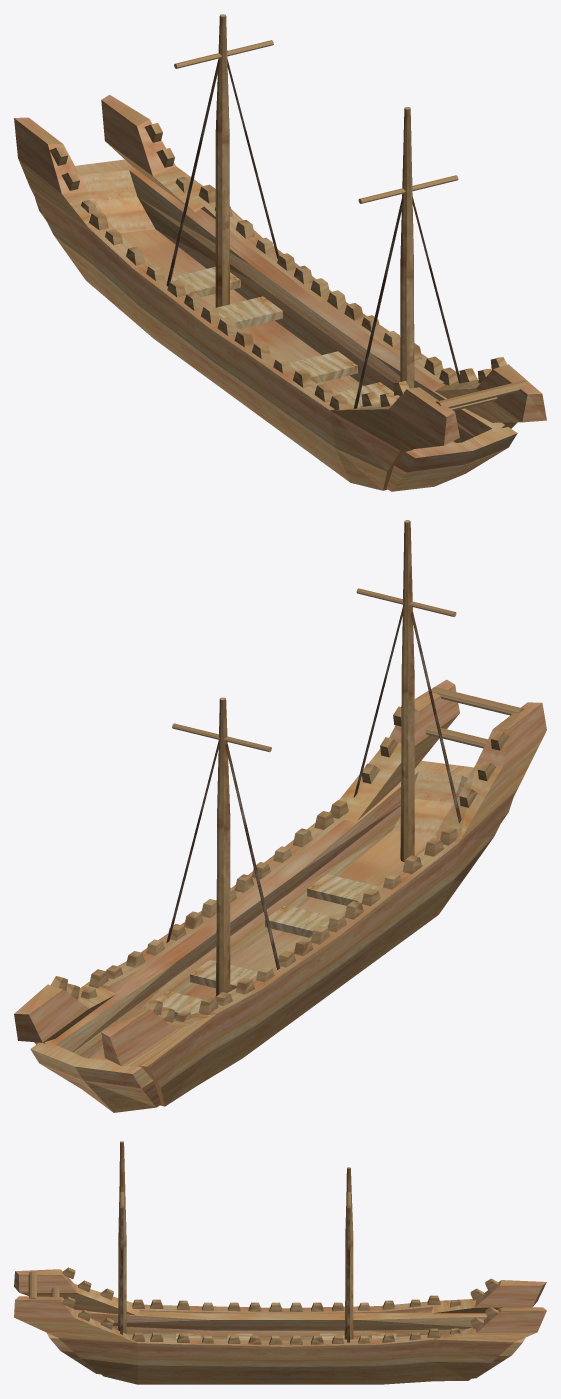
The model's file is yayoi_ship_bireme.dae.
3 views of the same model, one above another, from view 1: azimuth 30°, elevation 25°; view 2: azimuth 150°, elevation 25°; view 3: azimuth 270°, elevation 25° (orthographic). The views are drawn at different scales.
Parts seen in each view (by area): view 1: war_ship; view 2: war_ship; view 3: war_ship.
Part boxes in pixels (<box>): war_ship: <box>14,14,546,491</box>; war_ship: <box>14,520,546,1112</box>; war_ship: <box>14,1141,546,1384</box>.
Bounding box in the file's own units: 5.08 × 29.56 × 14.43.
1 material, 1 textured.
